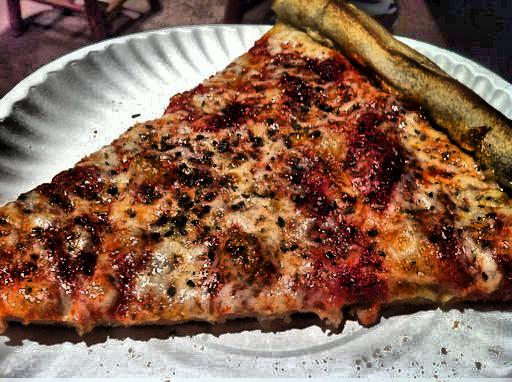pizza: (10, 31, 512, 340)
